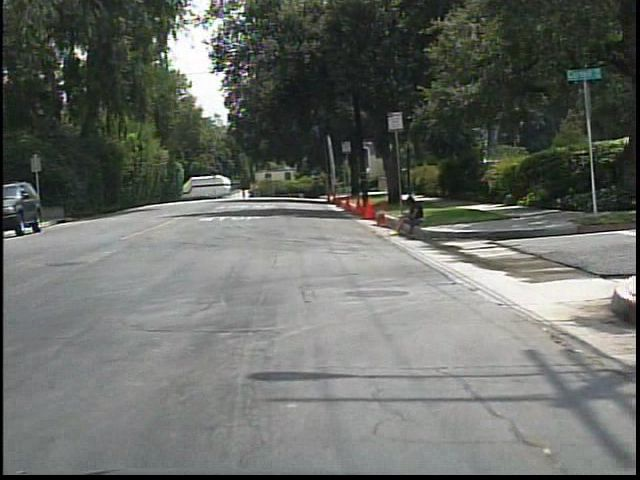person: (389, 191, 432, 240)
